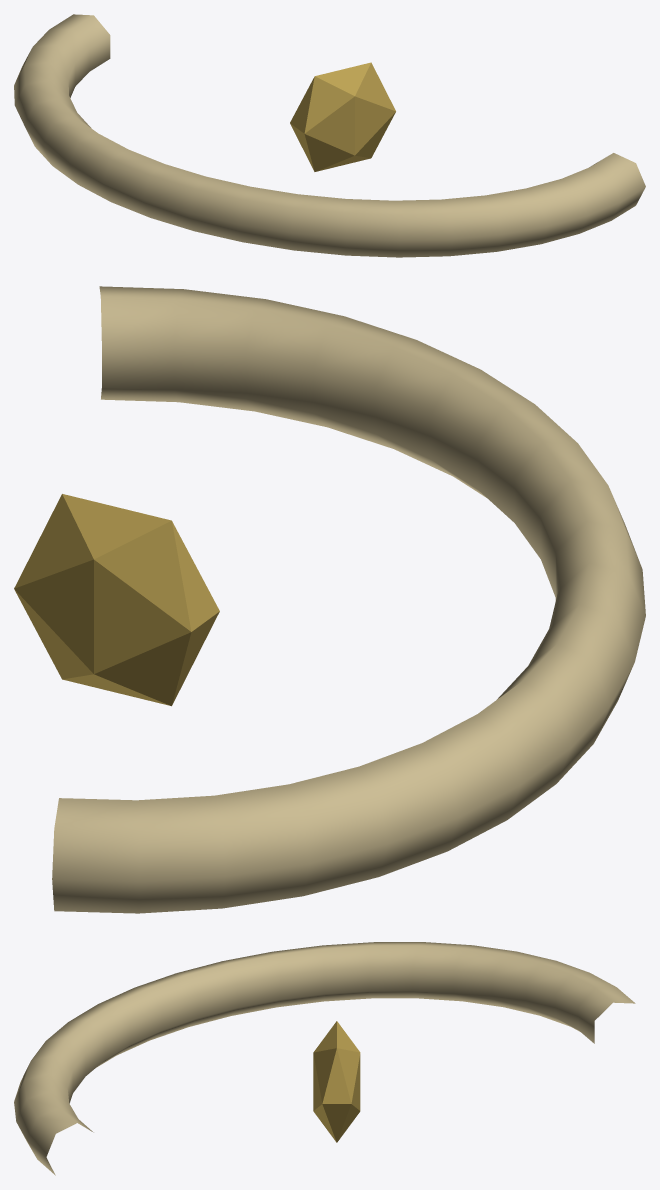
Rendered from wpn_m_07.glb.
The picture shows the model from 3 angles, top to bottom: view 1: azimuth 30°, elevation 25°; view 2: azimuth 150°, elevation 25°; view 3: azimuth 270°, elevation 25°; orthographic projection. The views are drawn at different scales.
Parts seen in each view (by area): view 1: attack_arc, attack_core; view 2: attack_arc, attack_core; view 3: attack_arc, attack_core.
Boxes of the visible parts, <box> form: attack_arc: <box>14,14,645,257</box>; attack_core: <box>290,62,395,171</box>; attack_arc: <box>52,286,645,913</box>; attack_core: <box>14,494,219,706</box>; attack_arc: <box>14,942,635,1175</box>; attack_core: <box>313,1021,360,1142</box>.
Bounding box in the file's own units: 0.8683 × 0.1939 × 1.17.
